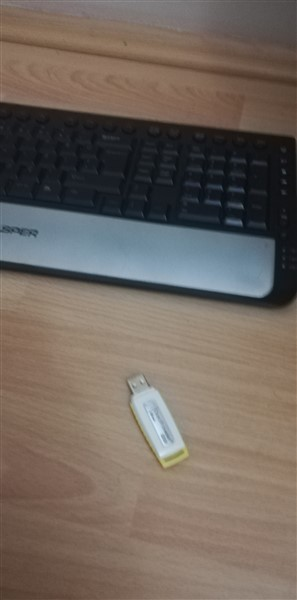flash disk: (125, 372, 199, 479)
klavye: (2, 95, 297, 314)
